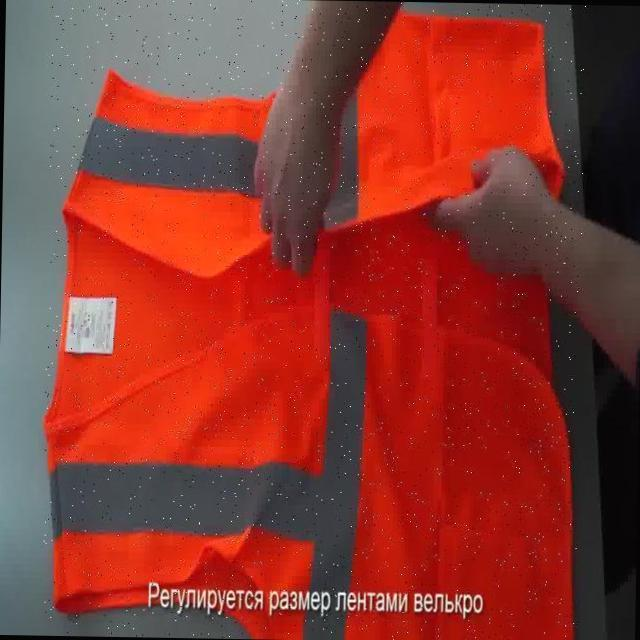vest: (40, 0, 585, 640)
